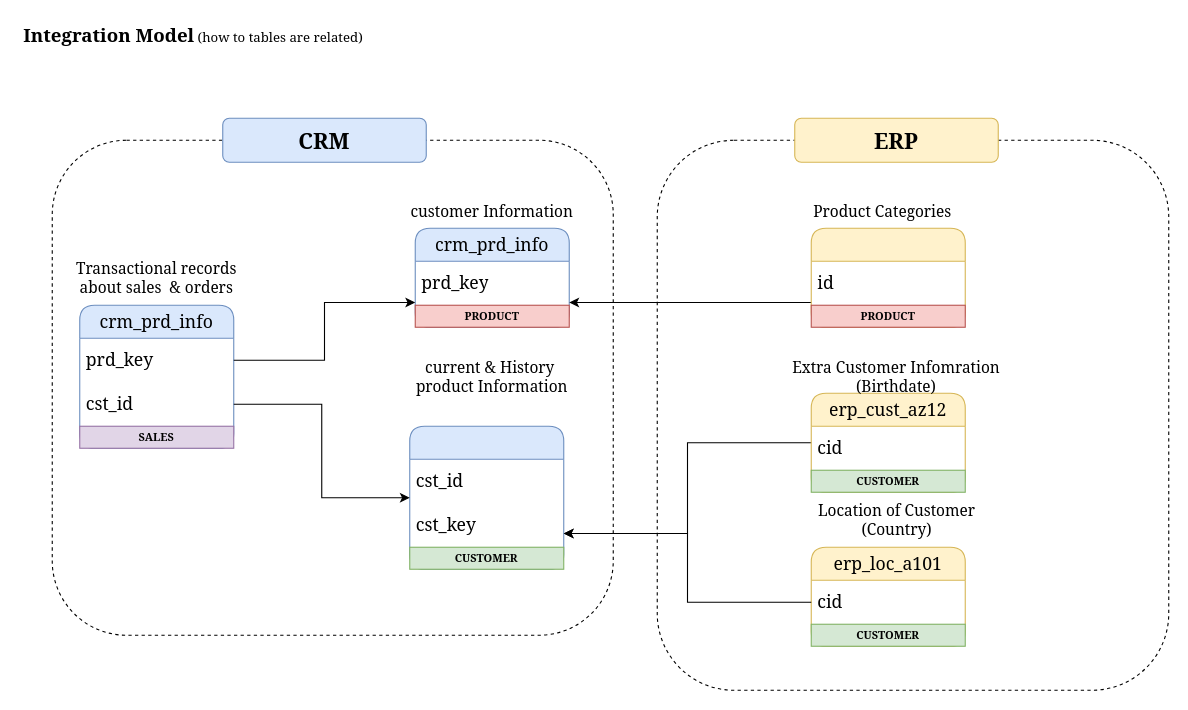
The diagram is 1188 pixels wide and 710 high, and some of its shapes have lost their labels. Here are the shapes that lost their labels. From the top down, the box of each, then its label:
(810, 227, 965, 327): erp_px_cat_g1v2
(409, 425, 564, 569): crm_cust_info
